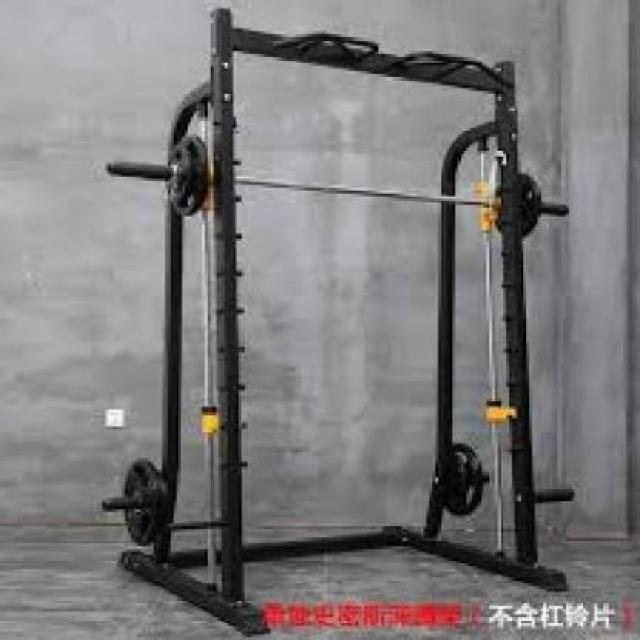smith machine: (106, 5, 577, 592)
